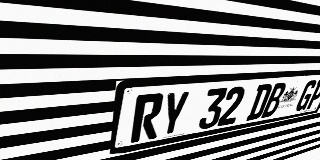2: (217, 86, 247, 126)
3: (197, 87, 228, 130)
B: (261, 82, 288, 118)
D: (246, 84, 274, 121)
G: (294, 80, 319, 112)
P: (305, 79, 320, 110)
R: (130, 93, 165, 143)
Y: (157, 91, 191, 138)
